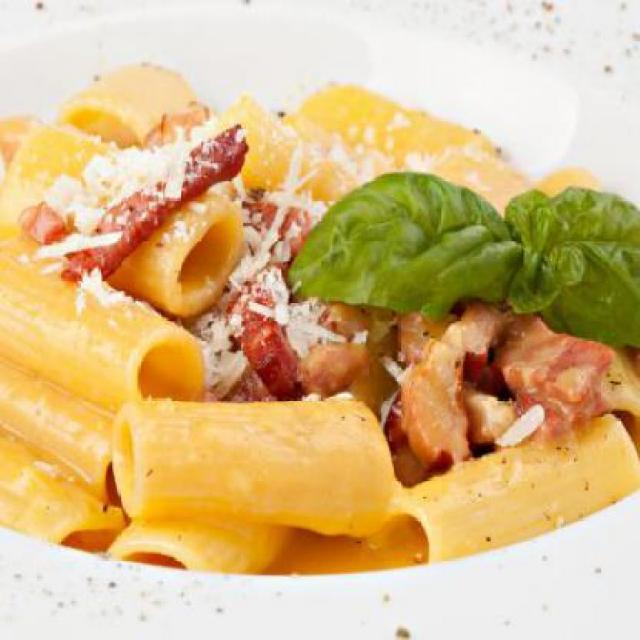Pasta with carbonara sauce: (6, 48, 640, 586)
